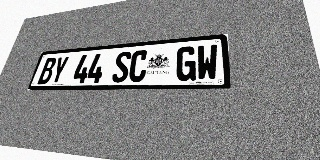4: (71, 54, 92, 84), (85, 53, 106, 83)
B: (37, 57, 57, 84)
C: (127, 50, 149, 82)
G: (175, 46, 196, 81)
S: (111, 51, 132, 83)
W: (196, 44, 218, 81)
Y: (49, 56, 69, 84)
